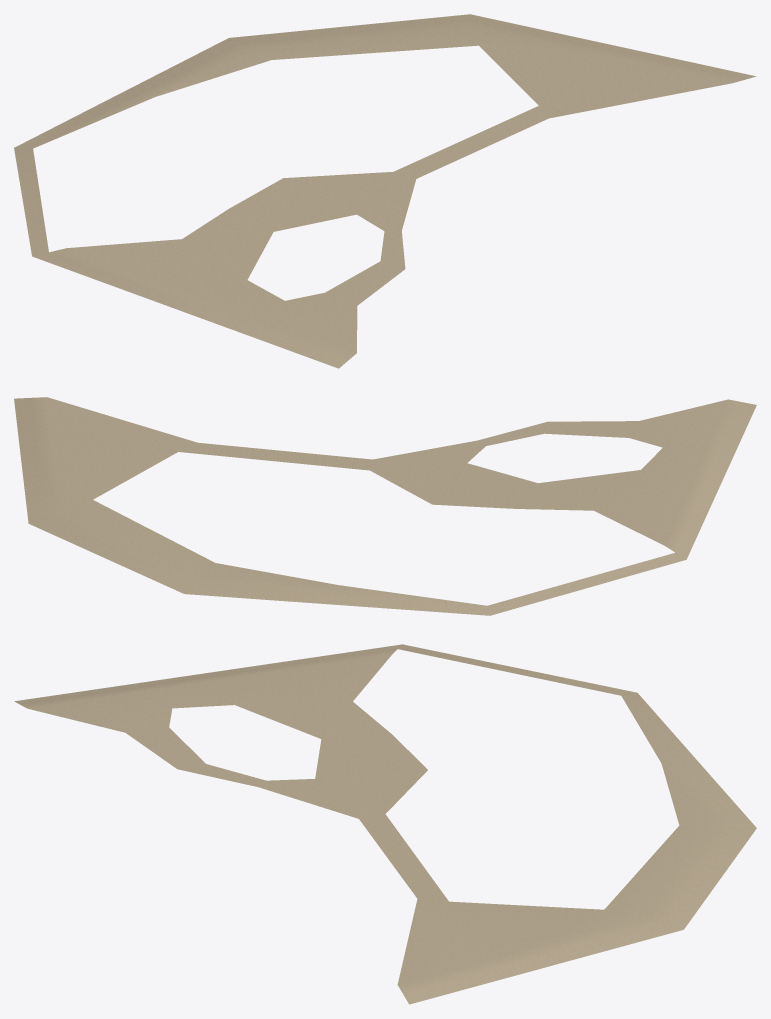
The model's file is kd_stage_1364a3_7_2_bounded.glb.
3 views of the same model, one above another, from view 1: azimuth 30°, elevation 25°; view 2: azimuth 150°, elevation 25°; view 3: azimuth 270°, elevation 25° (orthographic). The views are drawn at different scales.
Visible parts, largest first — view 1: kd_stage_1364a3_7_2_bounded; view 2: kd_stage_1364a3_7_2_bounded; view 3: kd_stage_1364a3_7_2_bounded.
Part boxes in pixels (bbox=[...]): kd_stage_1364a3_7_2_bounded: bbox=[14, 14, 756, 368]; kd_stage_1364a3_7_2_bounded: bbox=[14, 397, 756, 615]; kd_stage_1364a3_7_2_bounded: bbox=[14, 644, 756, 1004].
Bounding box in the file's own units: 114 × 0.7139 × 99.15.
1 material, 1 textured.
